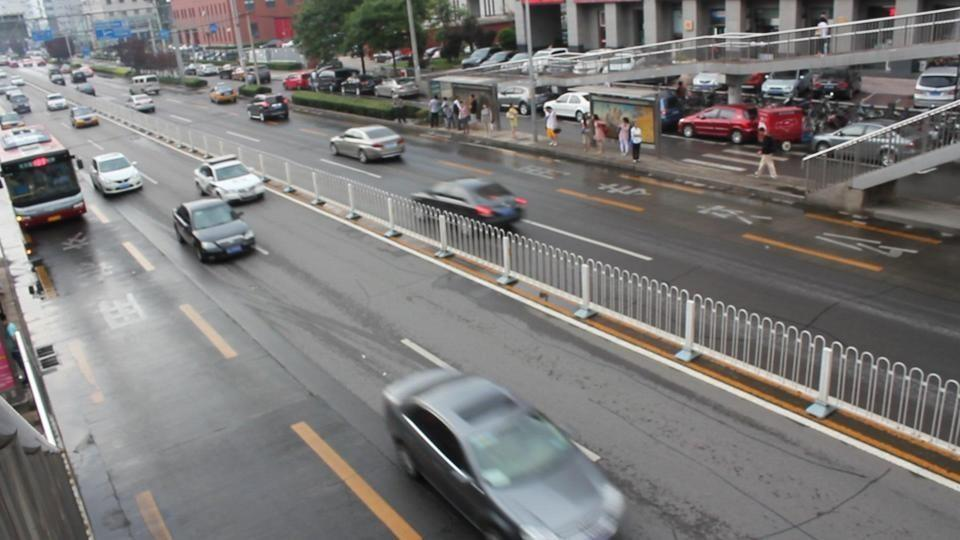car: (381, 369, 628, 536), (0, 127, 89, 227), (411, 177, 528, 231), (172, 196, 256, 263), (189, 154, 268, 205), (810, 120, 908, 161), (676, 104, 763, 144), (762, 69, 853, 102), (329, 124, 406, 163), (88, 150, 144, 197), (913, 63, 959, 109), (459, 47, 524, 71), (544, 92, 592, 121), (247, 94, 291, 123), (129, 74, 162, 96), (69, 106, 100, 129)
